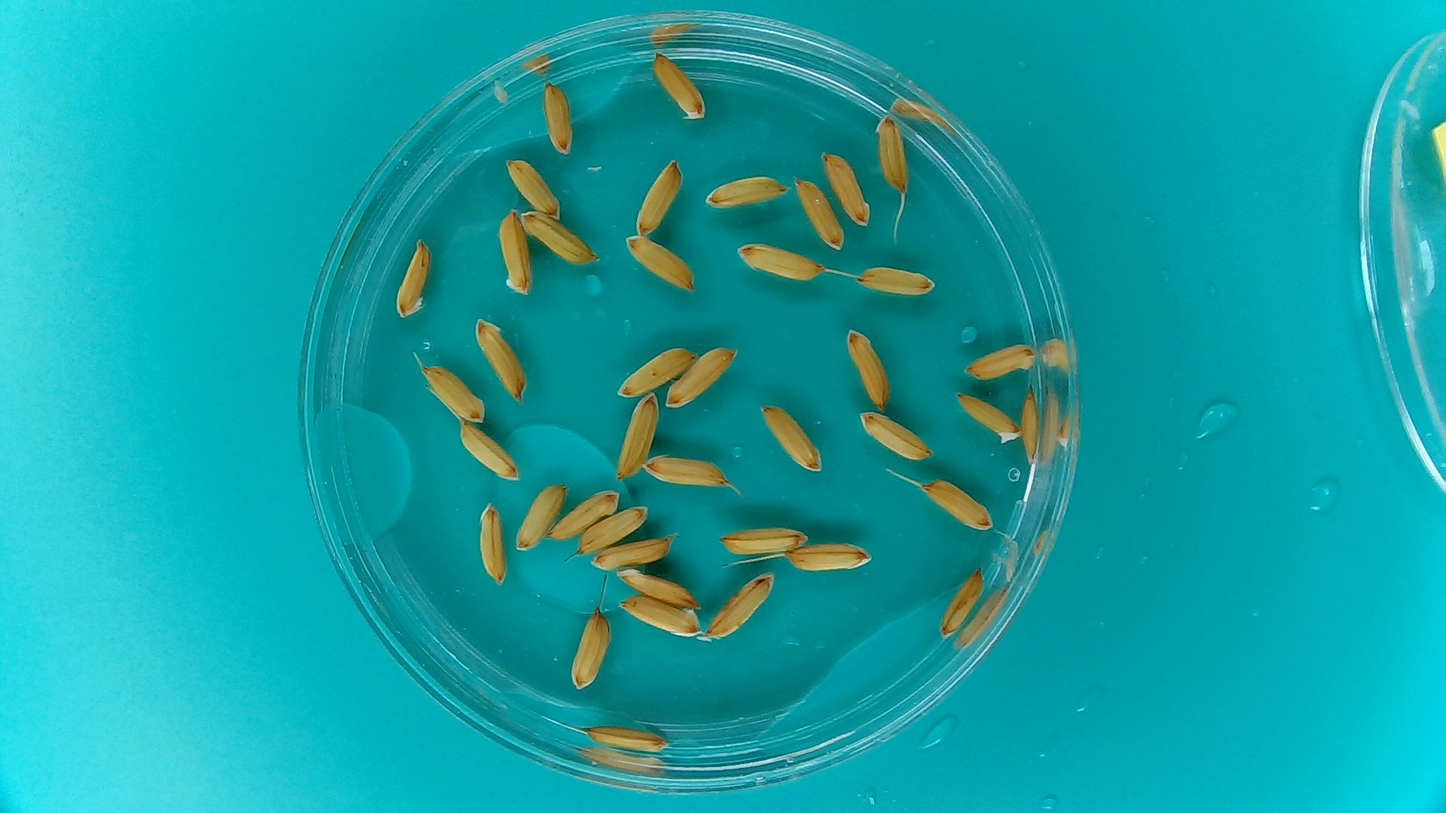no: (471, 310, 532, 407), (416, 354, 493, 427), (703, 568, 778, 642), (512, 207, 600, 270), (629, 153, 686, 239), (761, 403, 825, 478), (663, 343, 737, 407), (453, 417, 523, 483), (646, 50, 709, 123), (615, 342, 697, 398), (613, 389, 662, 482), (544, 486, 624, 541), (502, 153, 564, 223), (791, 173, 846, 251), (493, 206, 538, 301), (847, 324, 895, 413), (820, 147, 871, 230), (566, 607, 614, 695), (624, 235, 694, 295), (575, 500, 650, 553), (920, 477, 995, 530), (515, 478, 569, 551), (614, 594, 703, 638), (730, 239, 822, 281), (856, 410, 933, 460), (612, 566, 699, 610), (392, 235, 434, 324), (953, 393, 1021, 446), (590, 534, 679, 574), (963, 339, 1042, 384), (938, 566, 986, 640), (639, 454, 732, 491), (703, 169, 789, 209), (538, 78, 578, 159), (472, 498, 507, 589), (873, 111, 909, 197), (717, 527, 810, 558), (855, 264, 939, 297), (789, 541, 873, 574), (581, 723, 669, 751), (1428, 107, 1446, 215), (1020, 387, 1042, 461)
